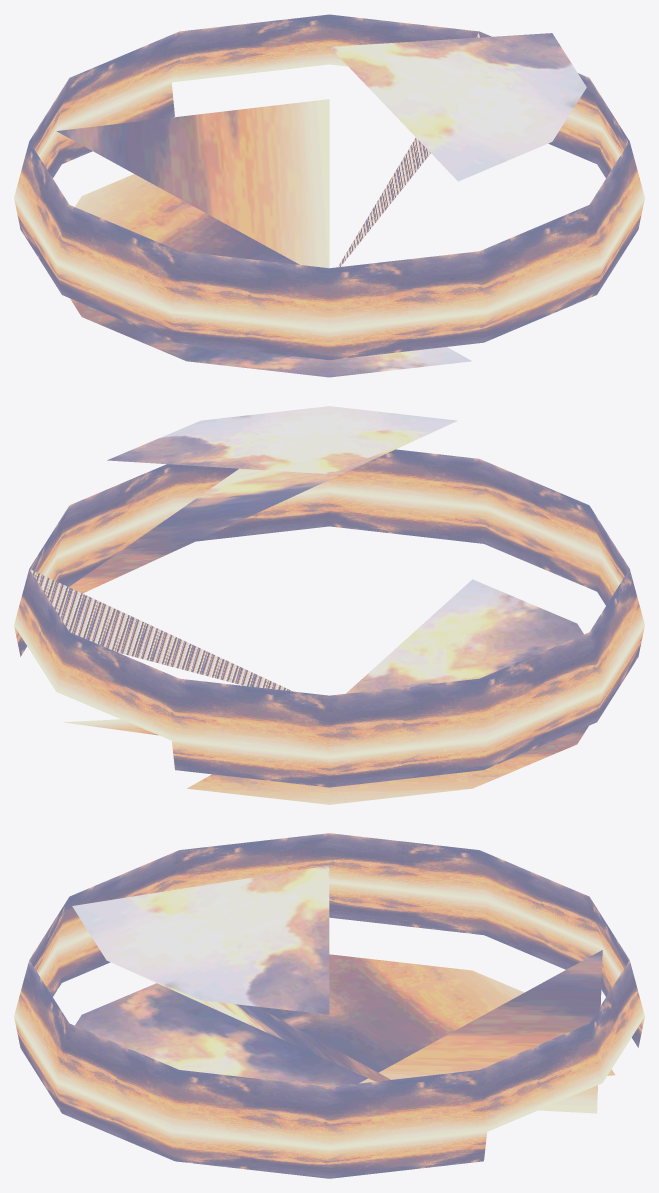
File: sky-ruins-01.obj
3 renders of one model, top to bottom at view 1: azimuth 30°, elevation 25°; view 2: azimuth 150°, elevation 25°; view 3: azimuth 270°, elevation 25°, orthographic.
Visible parts, largest first — view 1: mesh_sky_0; view 2: mesh_sky_0; view 3: mesh_sky_0.
Boxes of the visible parts, x1,y1,x2,y2 form: mesh_sky_0: [14, 14, 644, 377]; mesh_sky_0: [14, 406, 644, 804]; mesh_sky_0: [14, 833, 644, 1178].
Size of the model in its own units: 15000 by 6140 by 15000.
Materials: 1 (1 with a texture image).
